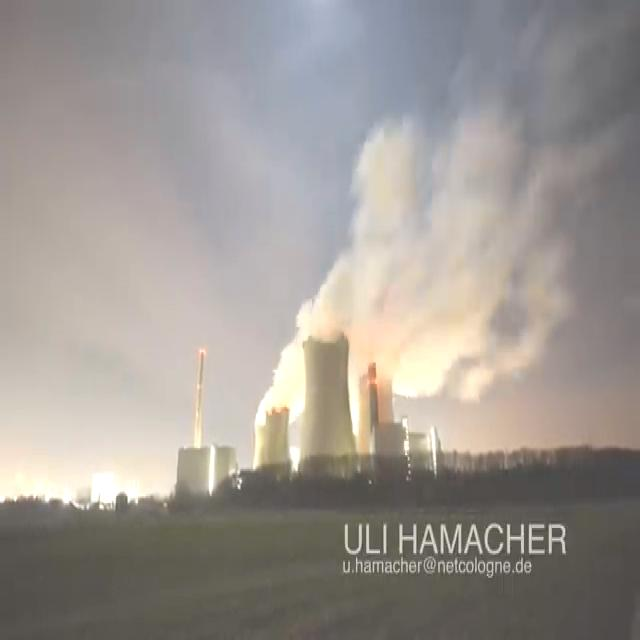smoke: (258, 0, 640, 453)
